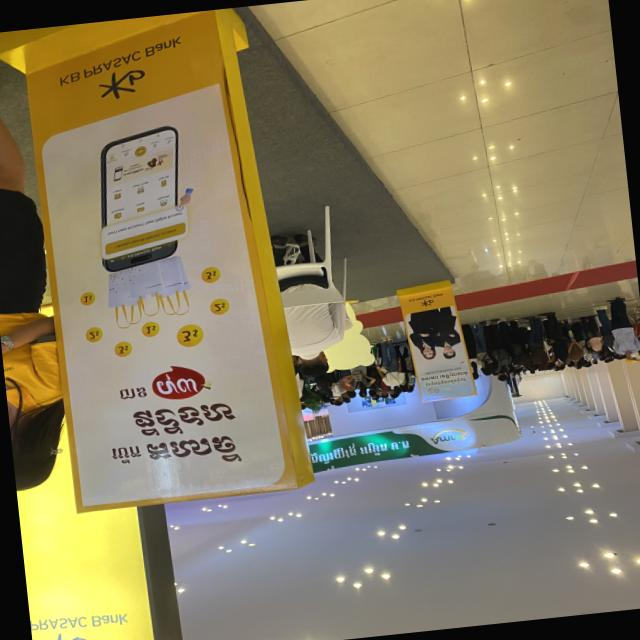1: (420, 368, 469, 382)
2: (310, 432, 414, 467)
507: (143, 324, 158, 334), (82, 293, 94, 304)
632: (211, 301, 227, 313), (87, 328, 102, 340)
704: (179, 328, 201, 343), (203, 268, 217, 282), (115, 344, 131, 356)
Yolov11_80vkh: (130, 396, 241, 441), (145, 430, 248, 468), (151, 373, 208, 398), (109, 443, 143, 466), (117, 384, 151, 403), (422, 375, 468, 387)
